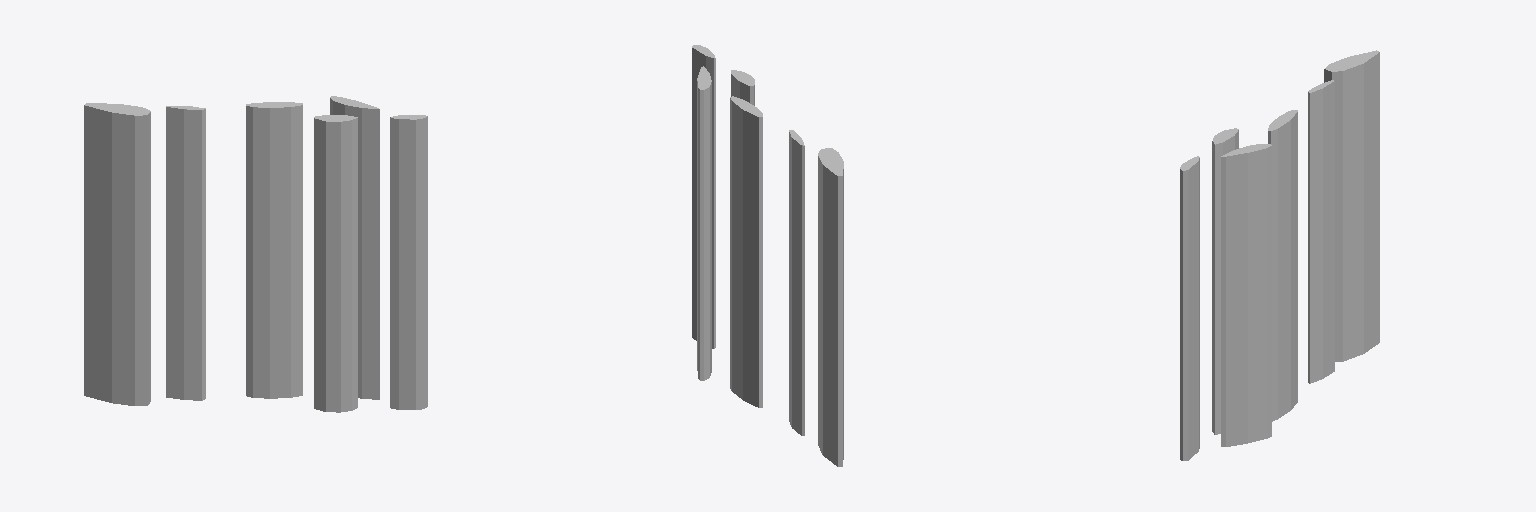
The picture shows the model from 3 angles: view 1: azimuth 30°, elevation 25°; view 2: azimuth 150°, elevation 25°; view 3: azimuth 270°, elevation 25°; orthographic projection.
Visible parts, largest first — view 1: SB.002_CUCurve.1737; view 2: SB.002_CUCurve.1737; view 3: SB.002_CUCurve.1737.
Boxes of the visible parts, x1=… form: SB.002_CUCurve.1737: x1=84, y1=96, x2=427, y2=412; SB.002_CUCurve.1737: x1=692, y1=45, x2=843, y2=466; SB.002_CUCurve.1737: x1=1180, y1=50, x2=1379, y2=460.
Size of the model in its own units: 0.0444 by 0.05 by 0.0312.